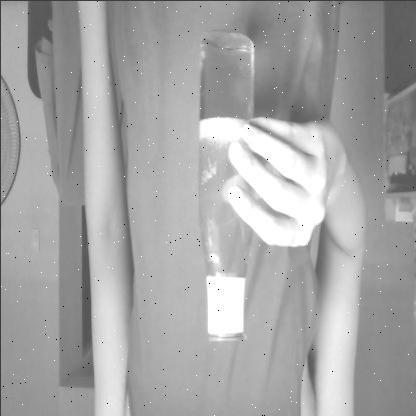Plastic Bottle: (191, 26, 262, 345)
